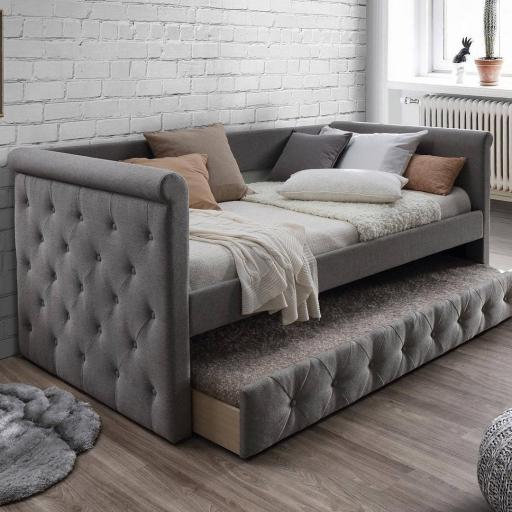bed: (8, 120, 512, 458)
sofa: (8, 120, 512, 458)
